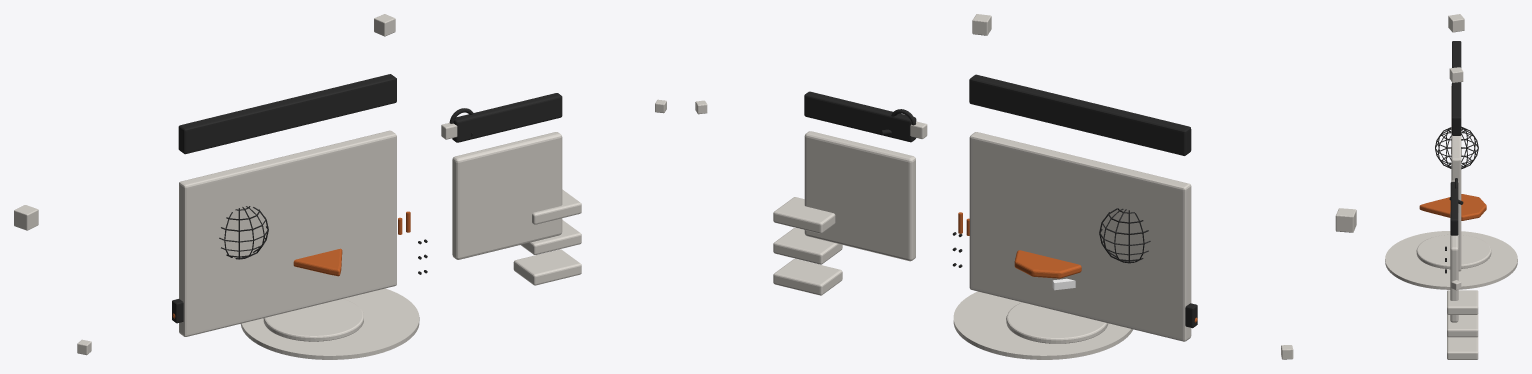
File: vulnex_hero.glb
3 views of the same model, side by side, from view 1: azimuth 30°, elevation 25°; view 2: azimuth 150°, elevation 25°; view 3: azimuth 270°, elevation 25° (orthographic). The views are drawn at different scales.
Visible parts, largest first — view 1: Browser_Body, AI_Panel_Body, Browser_Header, Platform_Base, Platform_Main, AI_Panel_Header, Server_Unit_0, Server_Unit_1, Shield_Body, Globe, Server_Unit_2, Floater_A; view 2: Browser_Body, AI_Panel_Body, Browser_Header, Platform_Base, Platform_Main, AI_Panel_Header, Server_Unit_0, Server_Unit_1, Server_Unit_2, Shield_Body, Globe; view 3: Platform_Base, Platform_Main, Shield_Body, Browser_Body, Browser_Header, Globe, Server_Unit_0, Server_Unit_2, Server_Unit_1, AI_Panel_Body, AI_Panel_Header, Floater_A (+1 smaller).
Boxes of the visible parts, box(x1,y1,x2,y2) form: Browser_Body: box(179, 130, 396, 336); AI_Panel_Body: box(452, 132, 562, 259); Browser_Header: box(178, 74, 396, 154); Platform_Base: box(240, 288, 419, 359); Platform_Main: box(263, 299, 363, 341); AI_Panel_Header: box(452, 93, 562, 142); Server_Unit_0: box(513, 249, 581, 285); Server_Unit_1: box(521, 220, 581, 254); Shield_Body: box(293, 248, 342, 276); Globe: box(219, 206, 268, 259); Server_Unit_2: box(532, 189, 581, 224); Floater_A: box(14, 205, 38, 230); Browser_Body: box(969, 132, 1191, 341); AI_Panel_Body: box(804, 131, 915, 261); Browser_Header: box(969, 74, 1191, 155); Platform_Base: box(953, 291, 1133, 359); Platform_Main: box(1006, 302, 1108, 343); AI_Panel_Header: box(804, 91, 916, 142); Server_Unit_0: box(773, 258, 842, 295); Server_Unit_1: box(773, 228, 842, 264); Server_Unit_2: box(773, 197, 835, 233); Shield_Body: box(1014, 250, 1081, 278); Globe: box(1099, 208, 1150, 263); Platform_Base: box(1385, 231, 1517, 289); Platform_Main: box(1416, 234, 1491, 269); Shield_Body: box(1419, 194, 1486, 220); Browser_Body: box(1451, 84, 1461, 271); Browser_Header: box(1452, 41, 1461, 135); Globe: box(1435, 126, 1478, 169); Server_Unit_0: box(1447, 337, 1478, 359); Server_Unit_2: box(1447, 290, 1478, 314); Server_Unit_1: box(1447, 314, 1478, 337); AI_Panel_Body: box(1450, 212, 1458, 322); AI_Panel_Header: box(1450, 181, 1458, 235); Floater_A: box(1448, 14, 1464, 32).
Bounding box in the file's own units: 13.42 × 5.89 × 3.2.
